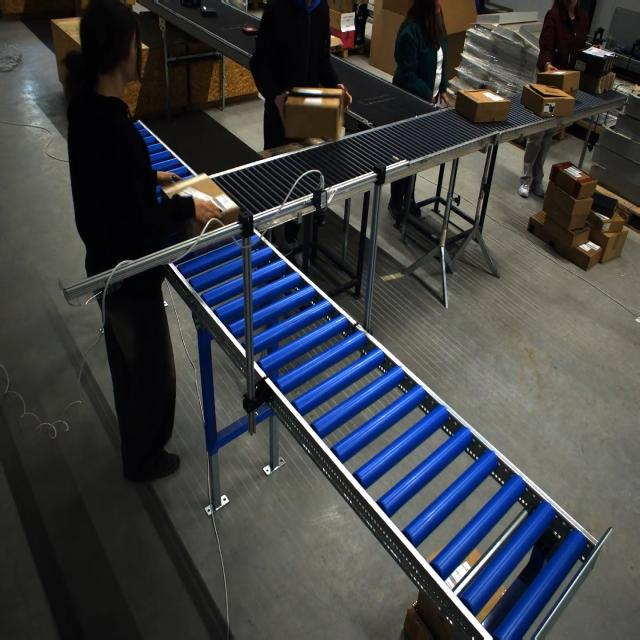box: (160, 172, 239, 231), (283, 87, 338, 141), (454, 88, 510, 124)
product: (199, 4, 217, 16)
